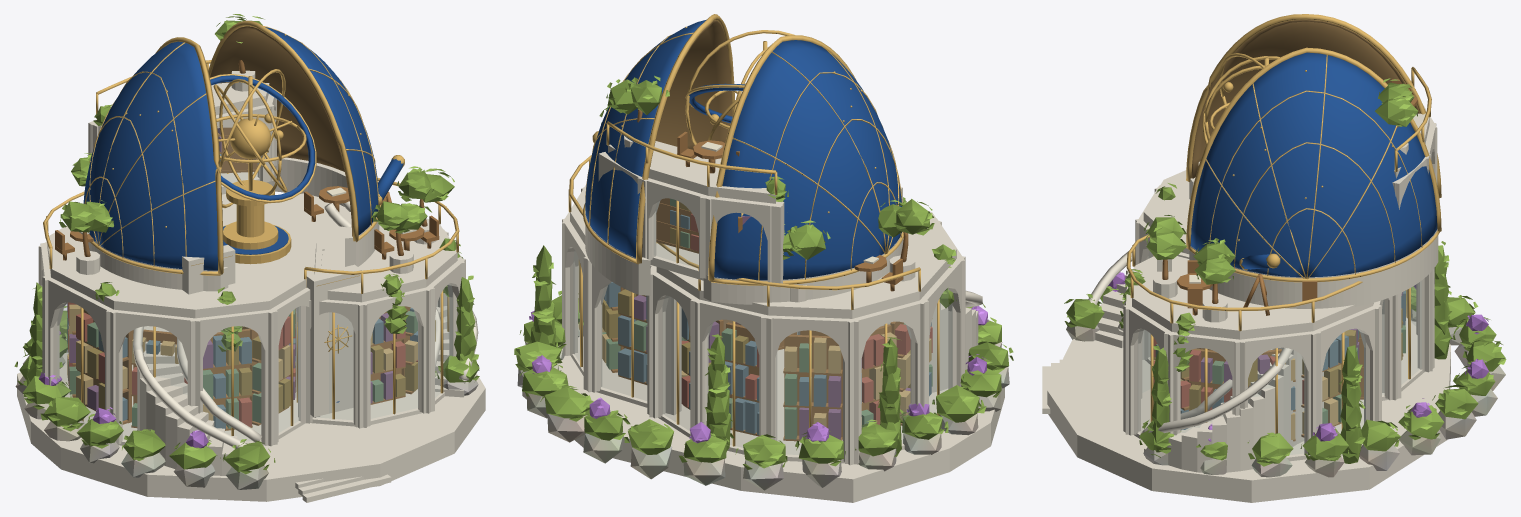
File: event-v01.glb
The picture shows the model from 3 angles, left to right: view 1: azimuth 30°, elevation 25°; view 2: azimuth 150°, elevation 25°; view 3: azimuth 270°, elevation 25°; orthographic projection. The views are drawn at different scales.
Parts seen in each view (by area): view 1: observatory-wings-L1-S1-observatory-warm-limestone, observatory-wings-L1-S2-observatory-warm-limestone, observatory-dome-L2-S2-observatory-celestial-blue, observatory-wings-L2-S2-observatory-warm-limestone, observatory-wings-L1-S5-observatory-clear-window-glass, observatory-wings-L1-S3-observatory-books-and-walnut, observatory-dome-L3-S2-observatory-celestial-blue, observatory-wings-L2-S5-observatory-clear-window-glass, observatory-wings-L2-S4-observatory-garden-colors, observatory-wings-L1-S4-observatory-garden-colors, observatory-armillary-L1-S3-observatory-warm-gold, observatory-wings-L2-S3-observatory-books-and-walnut (+22 smaller); view 2: observatory-dome-L2-S2-observatory-celestial-blue, observatory-wings-L1-S2-observatory-warm-limestone, observatory-wings-L1-S5-observatory-clear-window-glass, observatory-wings-L1-S1-observatory-warm-limestone, observatory-wings-L1-S3-observatory-books-and-walnut, observatory-dome-L3-S2-observatory-celestial-blue, observatory-wings-L1-S4-observatory-garden-colors, observatory-wings-L3-S4-observatory-garden-colors, observatory-wings-L3-S2-observatory-warm-limestone, observatory-wings-L2-S4-observatory-garden-colors, observatory-wings-L2-S2-observatory-warm-limestone, observatory-wings-L2-S5-observatory-clear-window-glass (+15 smaller); view 3: observatory-dome-L3-S2-observatory-celestial-blue, observatory-wings-L1-S1-observatory-warm-limestone, observatory-wings-L2-S2-observatory-warm-limestone, observatory-wings-L2-S4-observatory-garden-colors, observatory-wings-L2-S5-observatory-clear-window-glass, observatory-wings-L2-S1-observatory-warm-limestone, observatory-wings-L3-S4-observatory-garden-colors, observatory-wings-L2-S3-observatory-books-and-walnut, observatory-dome-L3-S5-observatory-warm-gold, observatory-wings-L1-S2-observatory-warm-limestone, observatory-dome-L2-S2-observatory-celestial-blue, observatory-dome-L3-S1-observatory-warm-limestone (+13 smaller).
Boxes of the visible parts, x1,y1,x2,y2 form: observatory-wings-L1-S1-observatory-warm-limestone: [17, 352, 485, 502]; observatory-wings-L1-S2-observatory-warm-limestone: [38, 194, 324, 446]; observatory-dome-L2-S2-observatory-celestial-blue: [83, 41, 217, 270]; observatory-wings-L2-S2-observatory-warm-limestone: [267, 193, 465, 428]; observatory-wings-L1-S5-observatory-clear-window-glass: [58, 303, 299, 440]; observatory-wings-L1-S3-observatory-books-and-walnut: [55, 230, 295, 430]; observatory-dome-L3-S2-observatory-celestial-blue: [210, 26, 378, 236]; observatory-wings-L2-S5-observatory-clear-window-glass: [319, 284, 452, 419]; observatory-wings-L2-S4-observatory-garden-colors: [14, 166, 479, 474]; observatory-wings-L1-S4-observatory-garden-colors: [23, 153, 242, 469]; observatory-armillary-L1-S3-observatory-warm-gold: [216, 76, 306, 264]; observatory-wings-L2-S3-observatory-books-and-walnut: [304, 186, 439, 404]; observatory-dome-L2-S2-observatory-celestial-blue: [714, 40, 901, 280]; observatory-wings-L1-S2-observatory-warm-limestone: [647, 187, 965, 465]; observatory-wings-L1-S5-observatory-clear-window-glass: [663, 289, 951, 454]; observatory-wings-L1-S1-observatory-warm-limestone: [522, 308, 1004, 502]; observatory-wings-L1-S3-observatory-books-and-walnut: [681, 255, 932, 441]; observatory-dome-L3-S2-observatory-celestial-blue: [585, 19, 732, 257]; observatory-wings-L1-S4-observatory-garden-colors: [519, 197, 1001, 466]; observatory-wings-L3-S4-observatory-garden-colors: [514, 75, 1013, 469]; observatory-wings-L3-S2-observatory-warm-limestone: [598, 141, 784, 287]; observatory-wings-L2-S4-observatory-garden-colors: [519, 106, 1001, 462]; observatory-wings-L2-S2-observatory-warm-limestone: [562, 185, 800, 415]; observatory-wings-L2-S5-observatory-clear-window-glass: [574, 252, 646, 400]; observatory-dome-L3-S2-observatory-celestial-blue: [1190, 52, 1437, 277]; observatory-wings-L1-S1-observatory-warm-limestone: [1042, 305, 1505, 502]; observatory-wings-L2-S2-observatory-warm-limestone: [1123, 256, 1384, 457]; observatory-wings-L2-S4-observatory-garden-colors: [1064, 215, 1500, 463]; observatory-wings-L2-S5-observatory-clear-window-glass: [1138, 329, 1365, 454]; observatory-wings-L2-S1-observatory-warm-limestone: [1066, 321, 1476, 477]; observatory-wings-L3-S4-observatory-garden-colors: [1147, 78, 1495, 460]; observatory-wings-L2-S3-observatory-books-and-walnut: [1153, 260, 1363, 441]; observatory-dome-L3-S5-observatory-warm-gold: [1186, 47, 1441, 282]; observatory-wings-L1-S2-observatory-warm-limestone: [1135, 161, 1434, 400]; observatory-dome-L2-S2-observatory-celestial-blue: [1191, 19, 1419, 178]; observatory-dome-L3-S1-observatory-warm-limestone: [1189, 229, 1438, 308].
Bounding box in the file's own units: 2.91 × 2.46 × 2.79.
